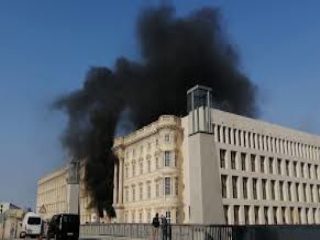smoke: (50, 7, 261, 218)
